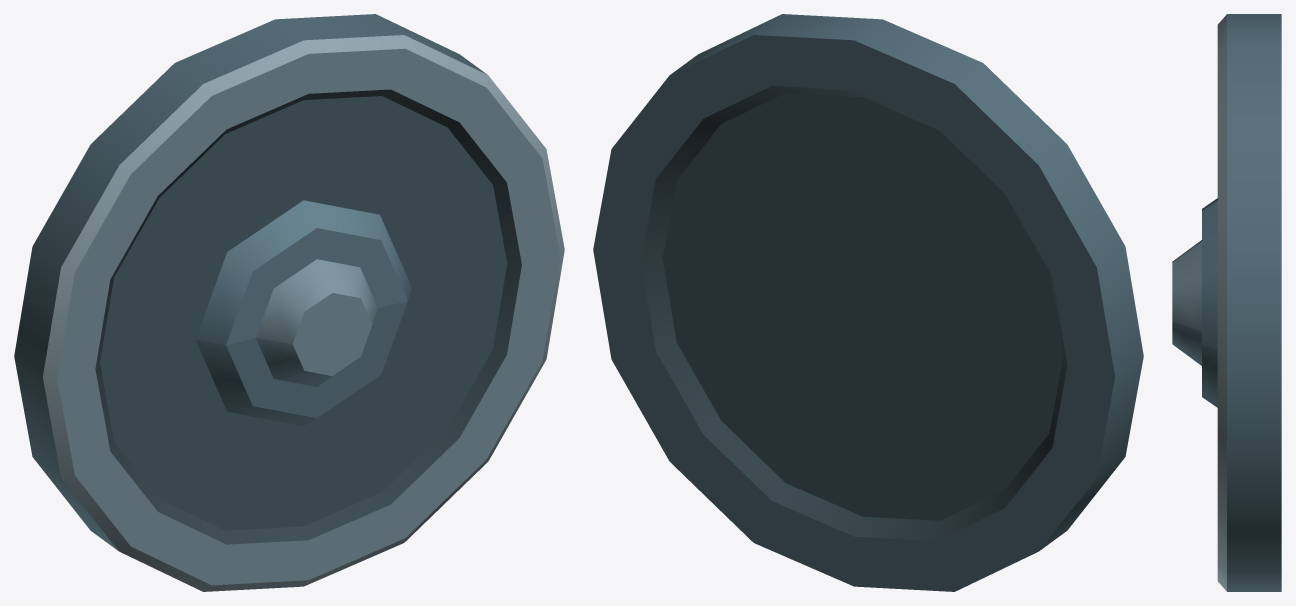
The model's file is wp cap4b.fbx.
The picture shows the model from 3 angles, left to right: view 1: azimuth 30°, elevation 25°; view 2: azimuth 150°, elevation 25°; view 3: azimuth 270°, elevation 25°; orthographic projection. The views are drawn at different scales.
Visible parts, largest first — view 1: wp_cap4b; view 2: wp_cap4b; view 3: wp_cap4b.
Part boxes in pixels (x1,y1,x2,y2): wp_cap4b: (14,14,564,591); wp_cap4b: (593,14,1143,591); wp_cap4b: (1172,14,1281,591).
Size of the model in its own units: 108 by 108 by 20.64.
Materials: 1 (1 with a texture image).
